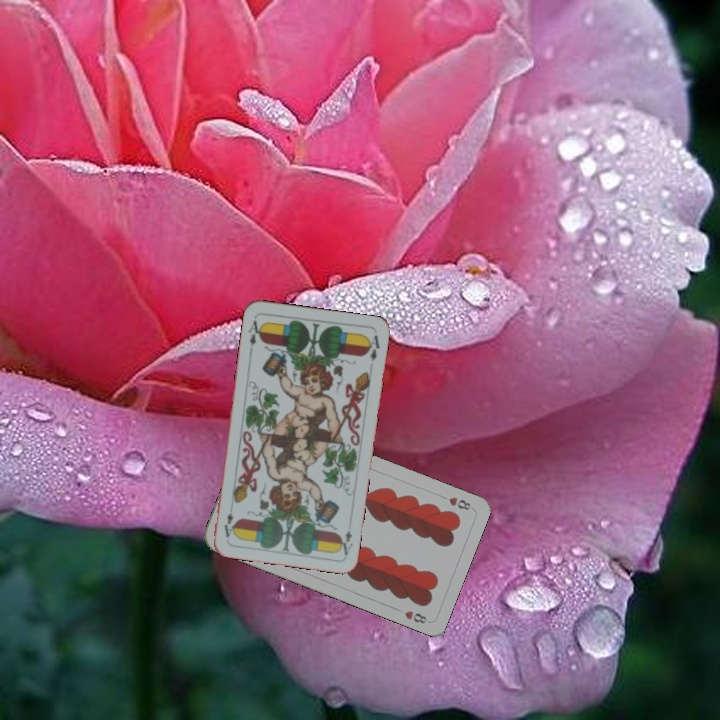EA: (244, 316, 265, 354), (335, 527, 355, 557)
H8: (445, 493, 475, 513)
